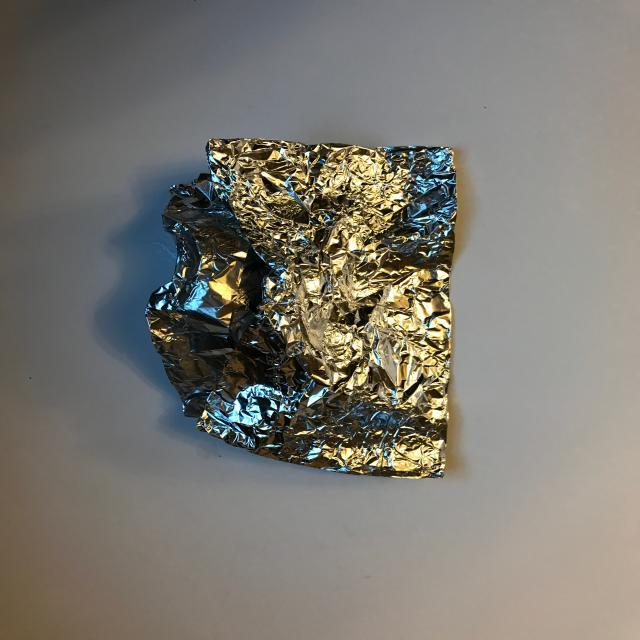metal: (142, 138, 457, 478)
